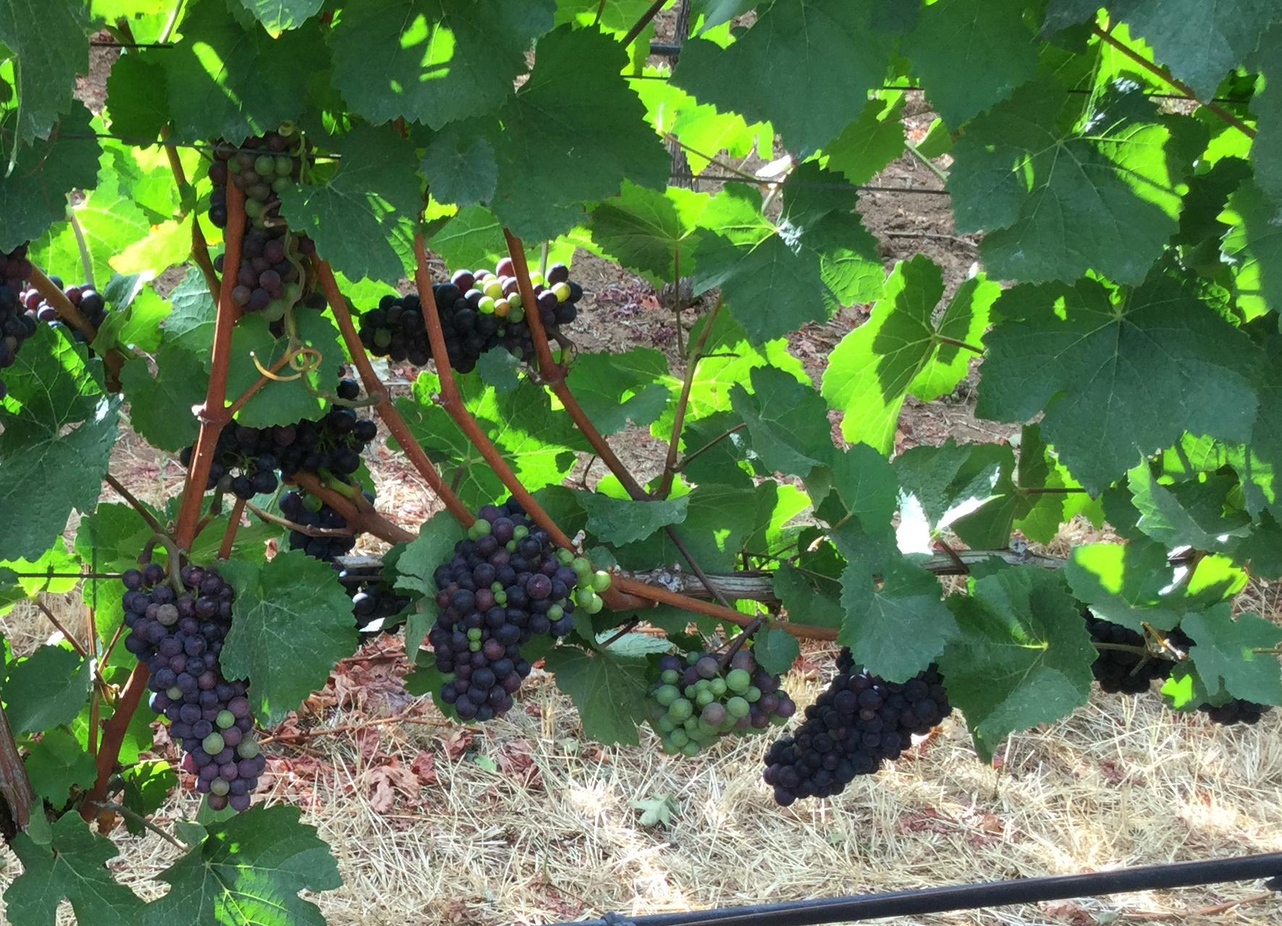Grape Ripe: (103, 510, 308, 812), (402, 453, 607, 725), (745, 624, 970, 815), (360, 273, 617, 385), (202, 91, 312, 330)
Grape Unripe: (614, 630, 807, 776)
